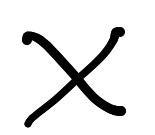mult: (23, 27, 126, 128)
